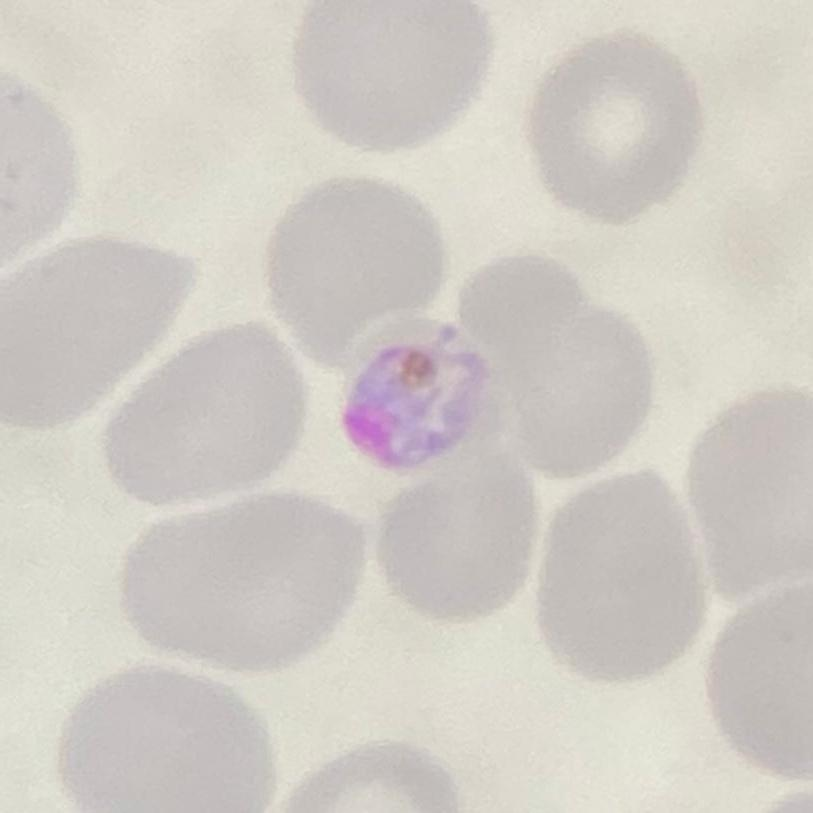Infected: (330, 311, 494, 481)
Uninfected: (120, 492, 371, 670), (0, 234, 193, 434), (100, 322, 309, 506), (538, 477, 711, 682), (265, 177, 448, 370), (530, 29, 702, 229), (57, 671, 268, 813), (297, 1, 488, 157), (382, 454, 541, 623), (692, 387, 813, 601), (512, 304, 651, 476), (457, 257, 584, 362)
